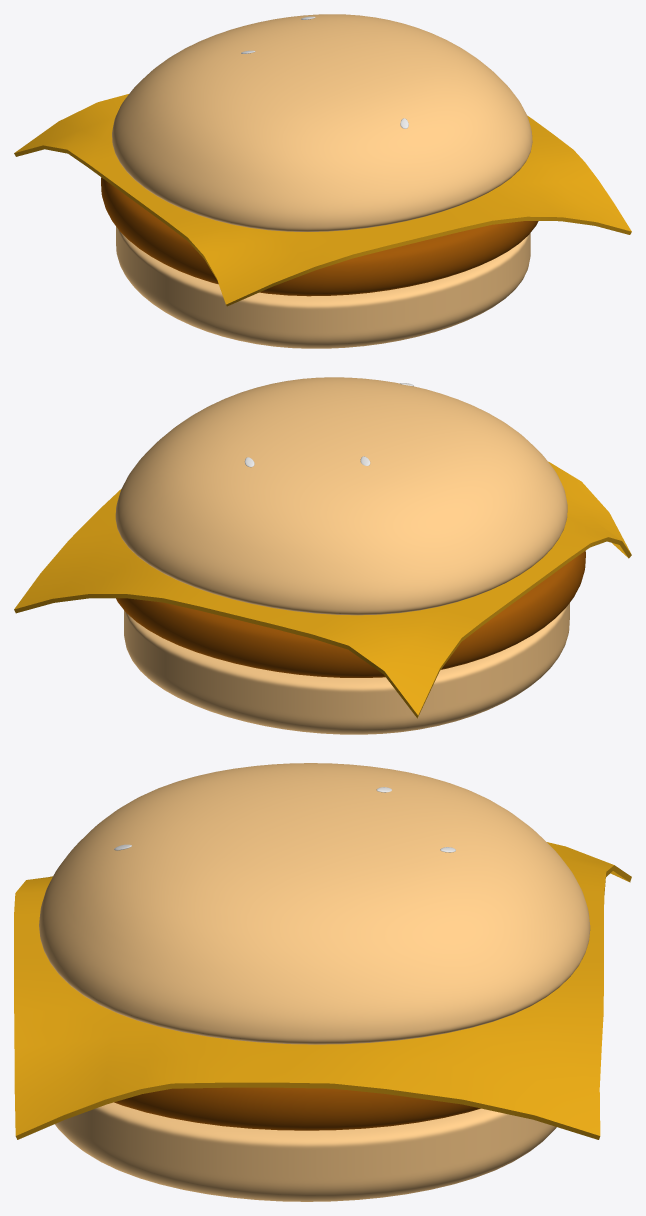
The model's file is hamburger.glb.
3 renders of one model, top to bottom at view 1: azimuth 30°, elevation 25°; view 2: azimuth 150°, elevation 25°; view 3: azimuth 270°, elevation 25°, orthographic. The views are drawn at different scales.
Visible parts, largest first — view 1: Cube.002, Plane, Cube, Cube.001; view 2: Cube.002, Plane, Cube, Cube.001; view 3: Cube.002, Plane, Cube, Cube.001.
Part boxes in pixels (x1=…): Cube.002: x1=112, y1=14, x2=532, y2=231; Plane: x1=14, y1=94, x2=631, y2=306; Cube: x1=116, y1=226, x2=530, y2=348; Cube.001: x1=101, y1=177, x2=538, y2=296; Cube.002: x1=115, y1=377, x2=567, y2=615; Plane: x1=14, y1=461, x2=631, y2=718; Cube: x1=124, y1=603, x2=569, y2=734; Cube.001: x1=116, y1=551, x2=585, y2=677; Cube.002: x1=39, y1=763, x2=590, y2=1044; Plane: x1=14, y1=842, x2=631, y2=1139; Cube: x1=55, y1=1102, x2=556, y2=1201; Cube.001: x1=114, y1=1087, x2=480, y2=1130.
Size of the model in its own units: 10.12 by 5.68 by 10.42.
